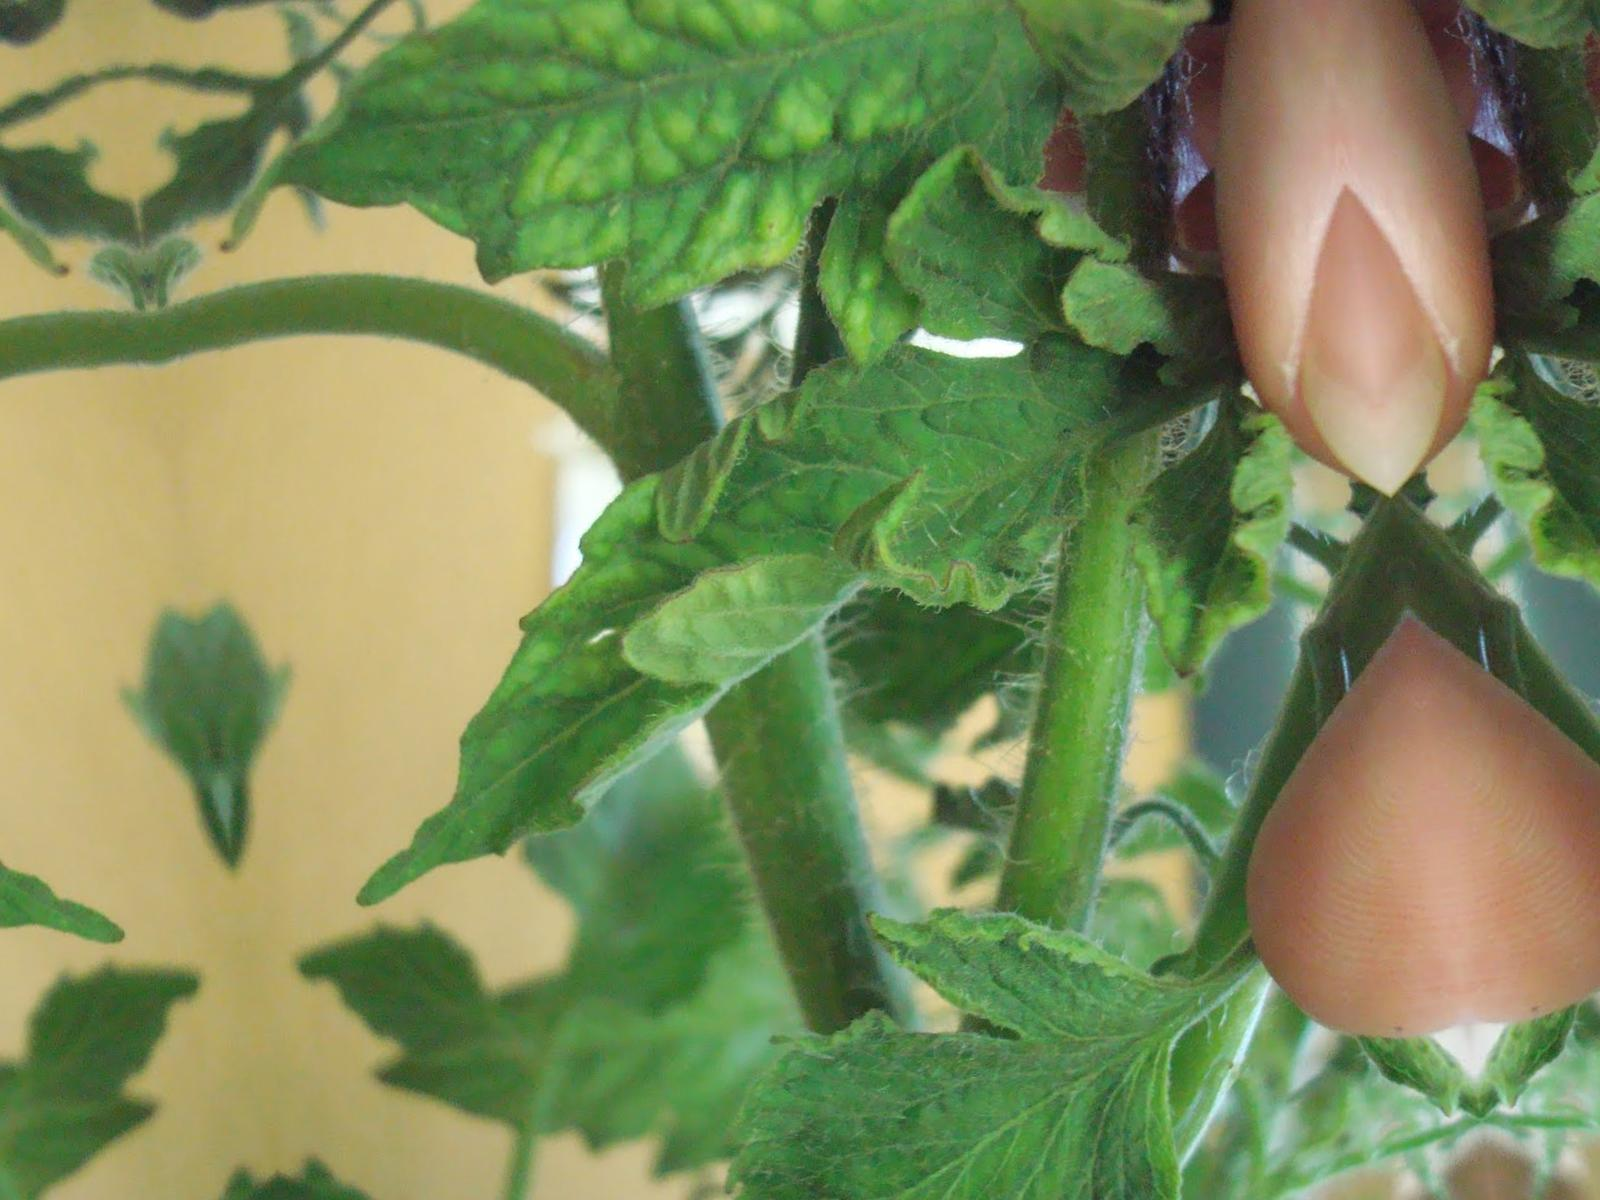Tomato leaf mosaic virus: (263, 134, 1225, 911), (247, 0, 1157, 408), (535, 863, 1232, 1200)
